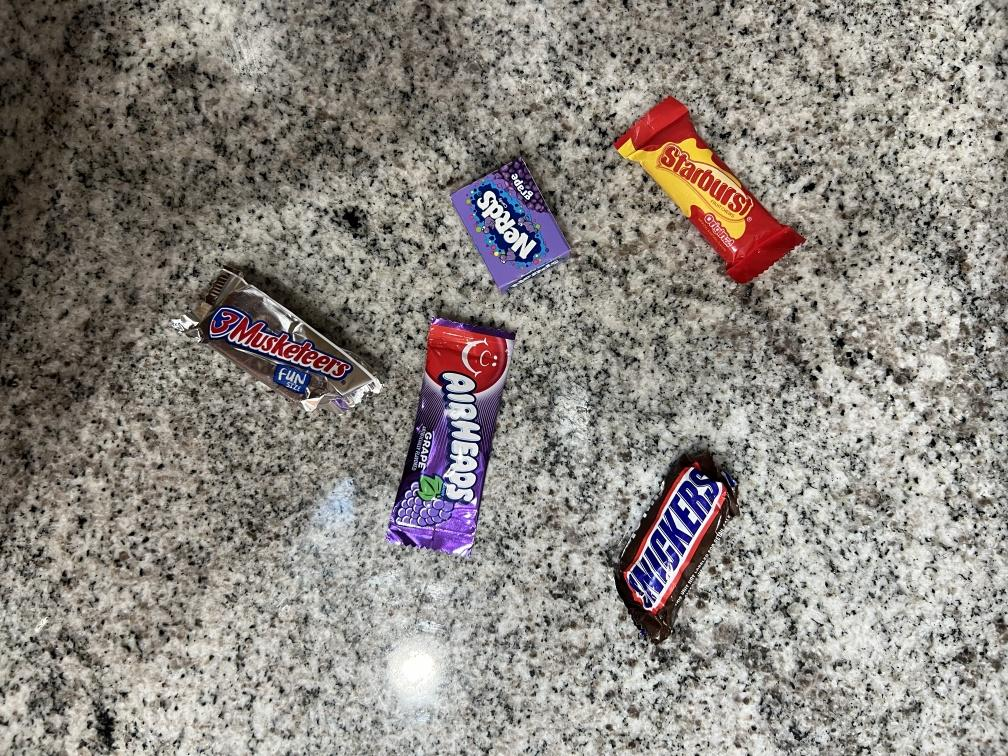Snickers: (614, 442, 749, 643)
airheads: (383, 300, 524, 570)
musketeers: (172, 250, 389, 429)
nerds: (445, 150, 586, 306)
starburst: (599, 80, 826, 313)
